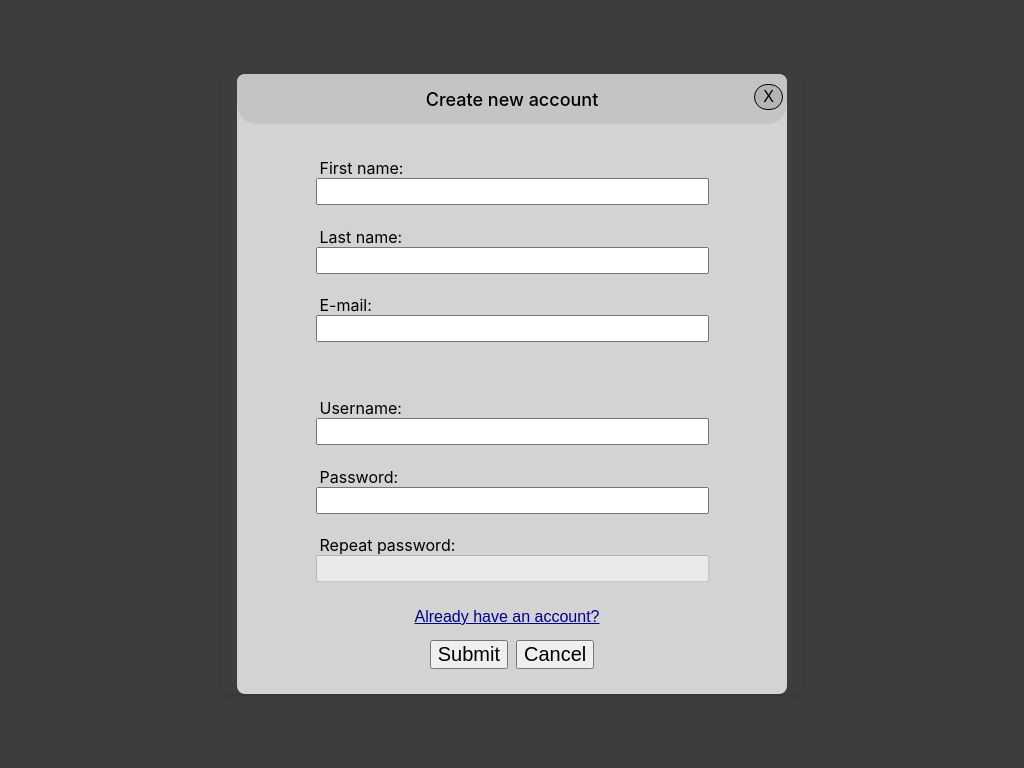
Test case: RegistrationModal › input field tests › error handling › renders error message when password input field not valid and loses focus
This screenshot has width=1024, height=768.
Click the password field labelled "Password:" at (512, 500), box [316, 486, 708, 514]
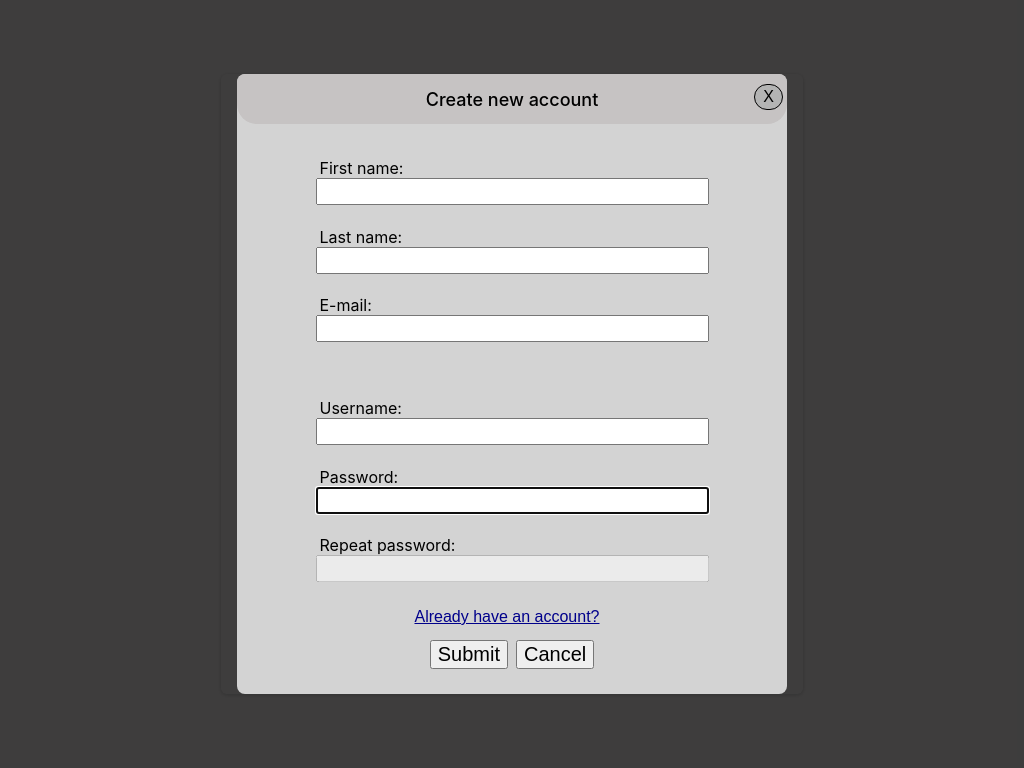
Click the field labelled "Username:" at (512, 431), box [316, 418, 708, 445]
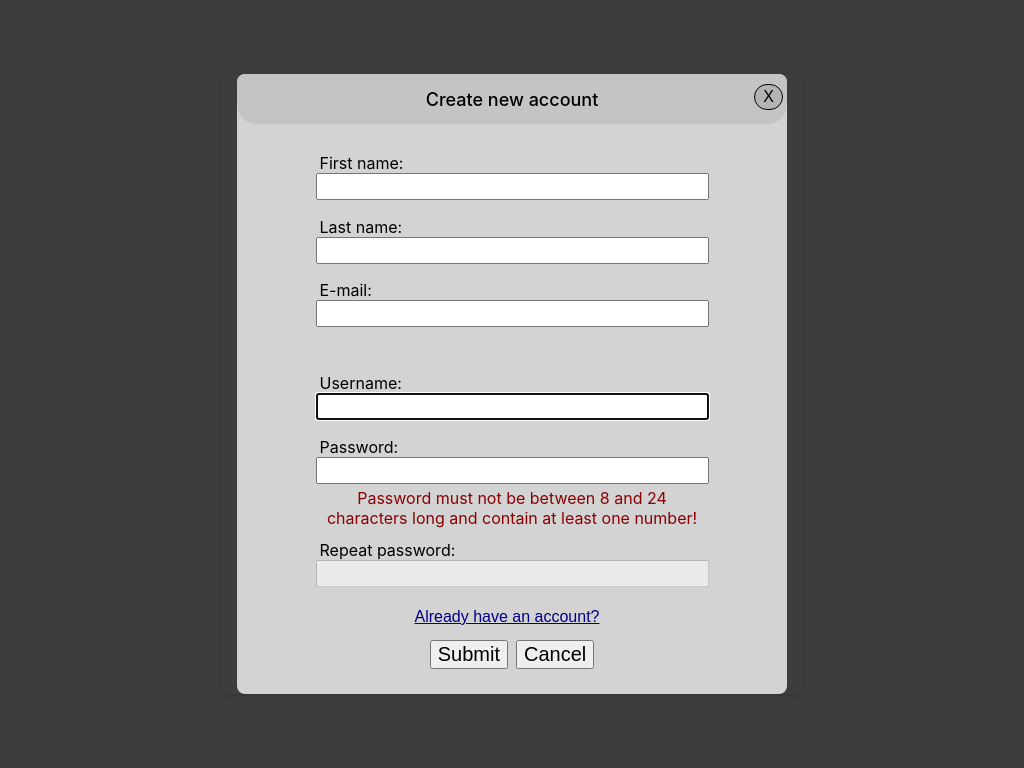
Now the text "Password must not be between 8 and 24 characters long and contain at least one number!" is shown, box [327, 488, 697, 528]
